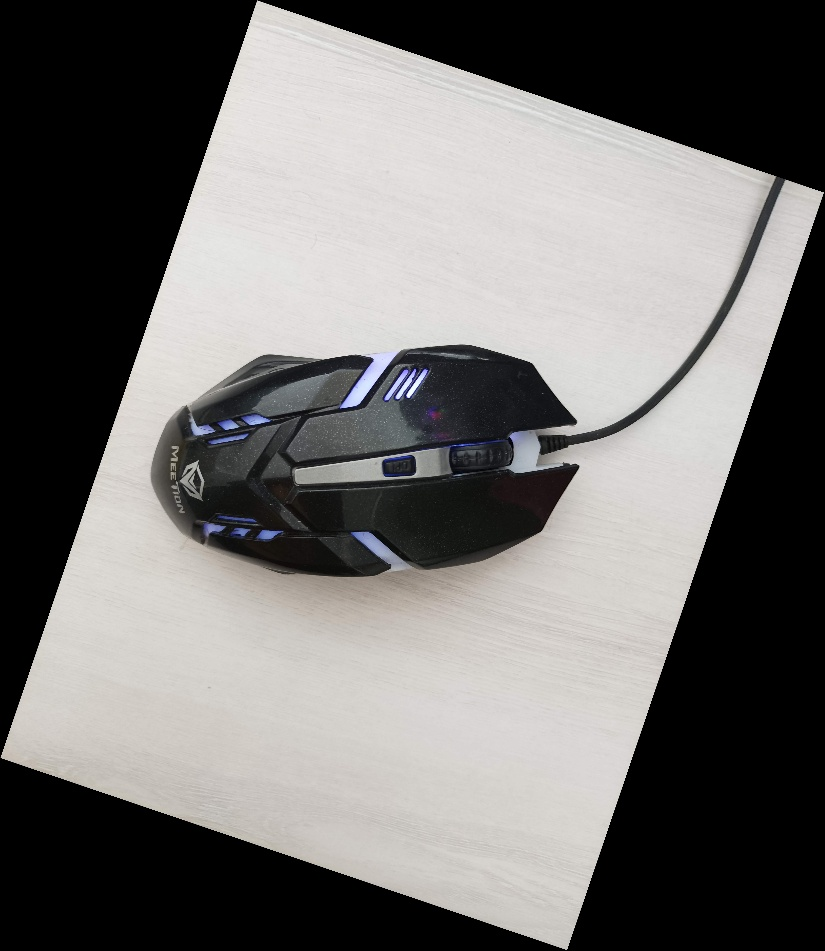mouse: (145, 342, 585, 582)
